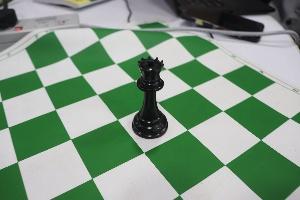black_queen: (124, 44, 174, 141)
